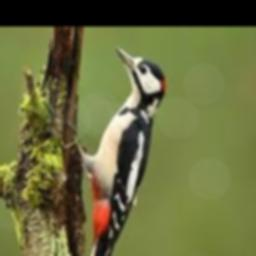Woodpecker: (61, 44, 164, 256)
